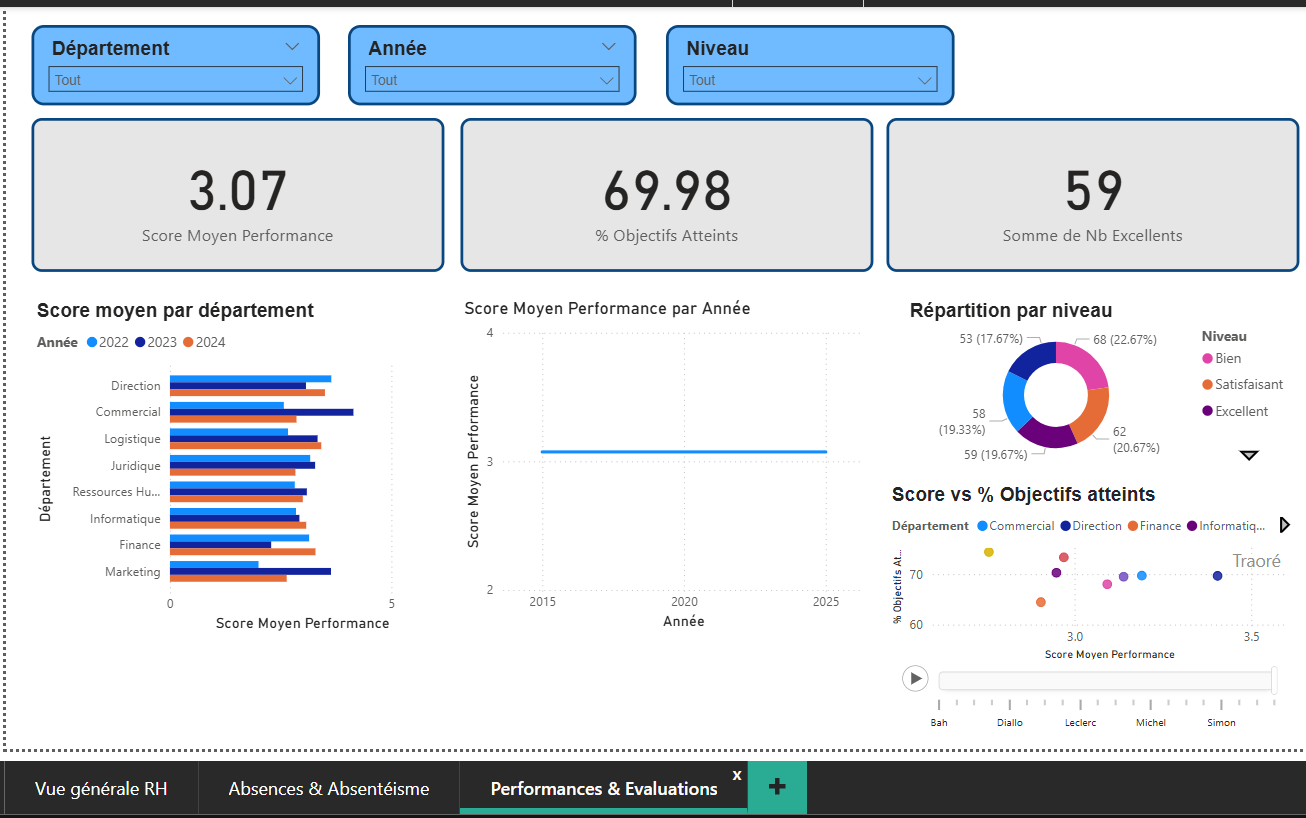

This screenshot's page, from the dashboard's own definition file:
{"tool":"powerbi","page":{"name":"Performances & Evaluations","canvas":[1280,720],"ordinal":2},"visuals":[{"type":"slicer","fields":{"Values":["Employes.Département"]},"box":[24.3,17.9,279.9,77.9],"z":0},{"type":"slicer","fields":{"Values":["Evaluations_Performance.Année"]},"box":[332.4,17.9,279.9,77.9],"z":1000},{"type":"slicer","fields":{"Values":["Evaluations_Performance.Niveau"]},"box":[640.5,17.9,279.9,77.9],"z":2000},{"type":"card","fields":{"Values":["_Mesures.Score Moyen Performance"]},"box":[24.8,107.7,400.9,149.1],"z":3000},{"type":"card","fields":{"Values":["_Mesures.% Objectifs Atteints"]},"box":[440.6,107.7,400.9,149.1],"z":4000},{"type":"card","fields":{"Values":["Sum(_Mesures.Nb Excellents)"]},"box":[854.7,107.7,400.9,149.1],"z":5000},{"type":"clusteredBarChart","title":"Score moyen par département","fields":{"Category":["Evaluations_Performance.Département"],"Y":["_Mesures.Score Moyen Performance"],"Series":["Evaluations_Performance.Année"]},"box":[24.8,283.3,400.9,326.3],"z":6000},{"type":"scatterChart","title":"Score  vs % Objectifs atteints","fields":{"X":["_Mesures.Score Moyen Performance"],"Y":["_Mesures.% Objectifs Atteints"],"Series":["Evaluations_Performance.Département"],"Play":["Employes.Nom"]},"box":[854.7,462.2,400.9,255.1],"z":7000},{"type":"donutChart","title":"Répartition par niveau","fields":{"Category":["Evaluations_Performance.Niveau"],"Y":["_Mesures.Mesure"]},"box":[871.3,283.3,384.3,164],"z":8000},{"type":"lineChart","fields":{"Y":["_Mesures.Score Moyen Performance"],"Category":["Calendrier.Année"]},"box":[440,283,401,326],"z":8001}]}

Visuals, with their boxes on the page's 1280x720 design canvas (x1, y1, x2, y2). These are canvas units, not pixel positions in the 1306x818 screenshot, which may show the page scaled, cropped or inside an application window:
slicer - Employes.Département: 24,18,304,96
slicer - Evaluations_Performance.Année: 332,18,612,96
slicer - Evaluations_Performance.Niveau: 640,18,920,96
card - _Mesures.Score Moyen Performance: 25,108,426,257
card - _Mesures.% Objectifs Atteints: 441,108,842,257
card - Sum(_Mesures.Nb Excellents): 855,108,1256,257
"Score moyen par département" clusteredBarChart: 25,283,426,610
"Score  vs % Objectifs atteints" scatterChart: 855,462,1256,717
"Répartition par niveau" donutChart: 871,283,1256,447
lineChart - _Mesures.Score Moyen Performance x Calendrier.Année: 440,283,841,609
